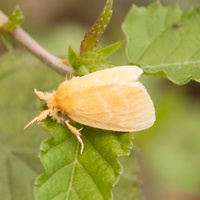insect: (24, 65, 154, 152)
